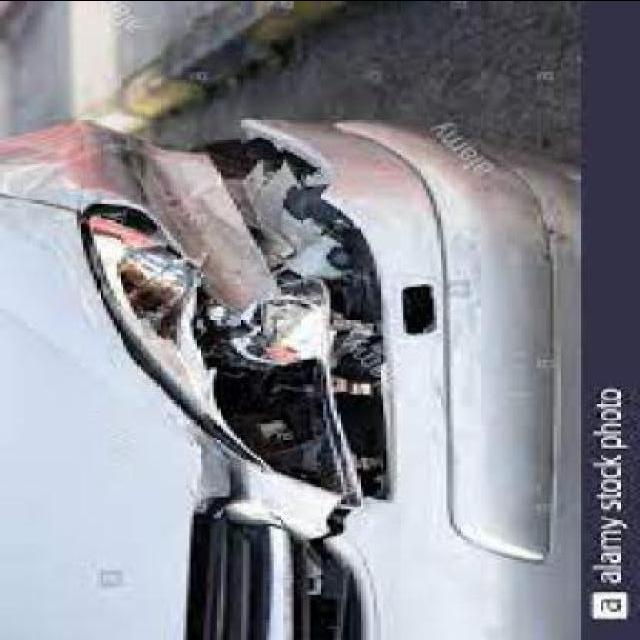Headlight-Damage: (54, 114, 444, 534)
